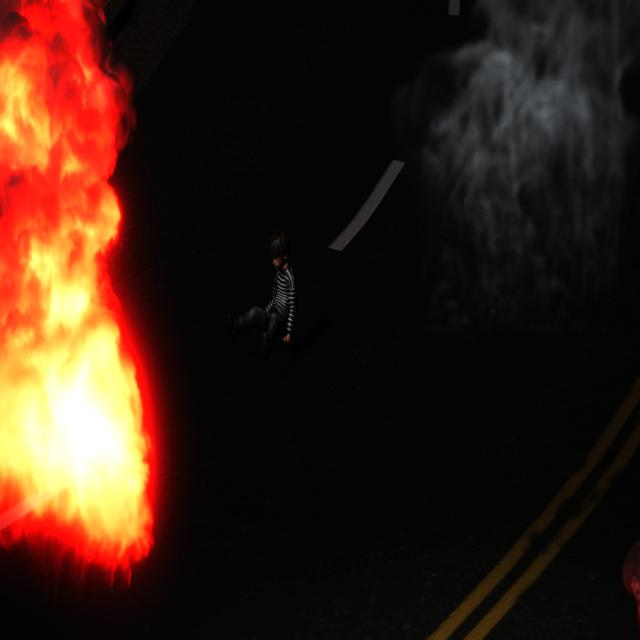Human: (224, 225, 300, 359)
